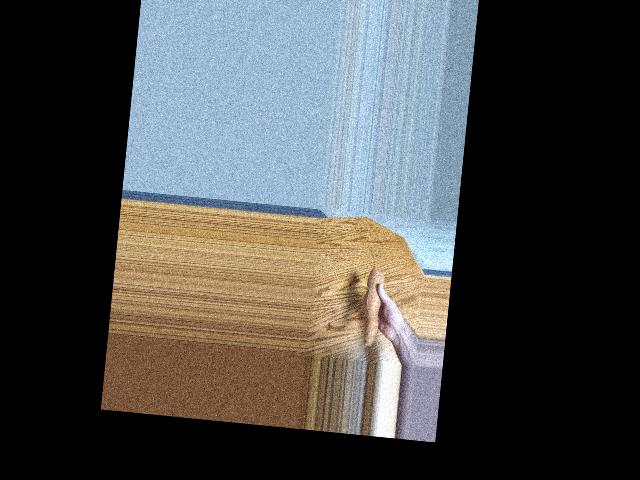sweet_potato: (358, 270, 388, 347)
